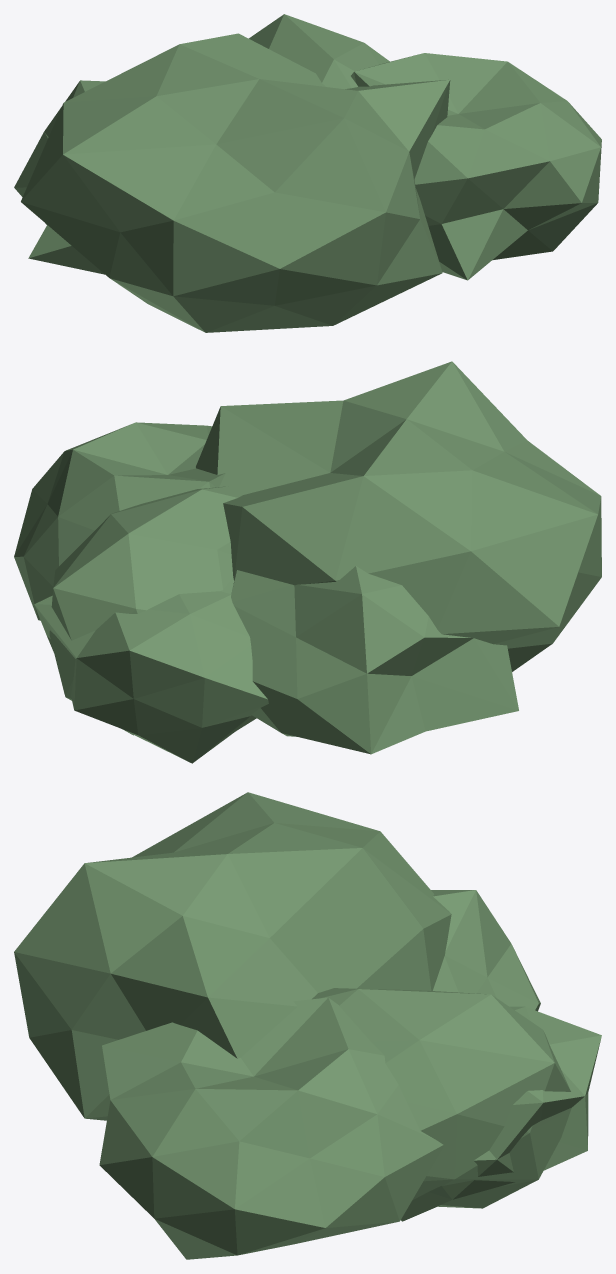
The model's file is bush_low_01.glb.
The picture shows the model from 3 angles, top to bottom: view 1: azimuth 30°, elevation 25°; view 2: azimuth 150°, elevation 25°; view 3: azimuth 270°, elevation 25°; orthographic projection. The views are drawn at different scales.
Parts seen in each view (by area): view 1: world; view 2: world; view 3: world.
Part boxes in pixels (left/top/right/bottom): world: left=14, top=14, right=601, bottom=332; world: left=14, top=361, right=601, bottom=763; world: left=14, top=792, right=601, bottom=1259.
Size of the model in its own units: 1.33 by 0.5887 by 1.12.
